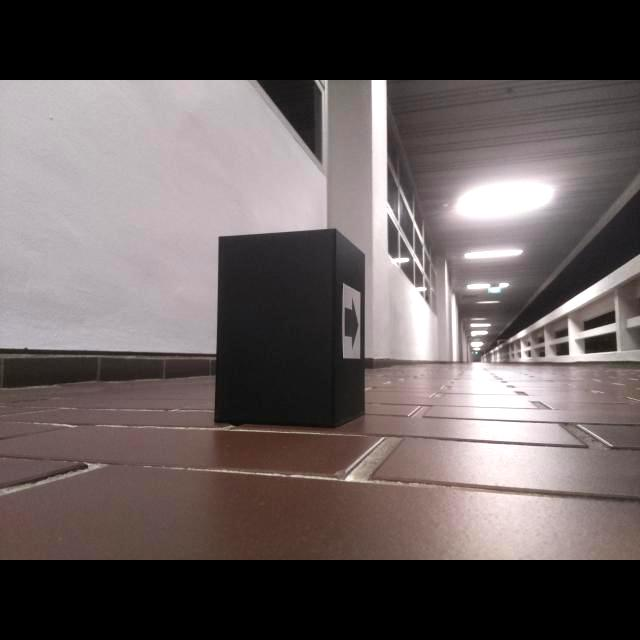RIGHT: (344, 300, 359, 350)
